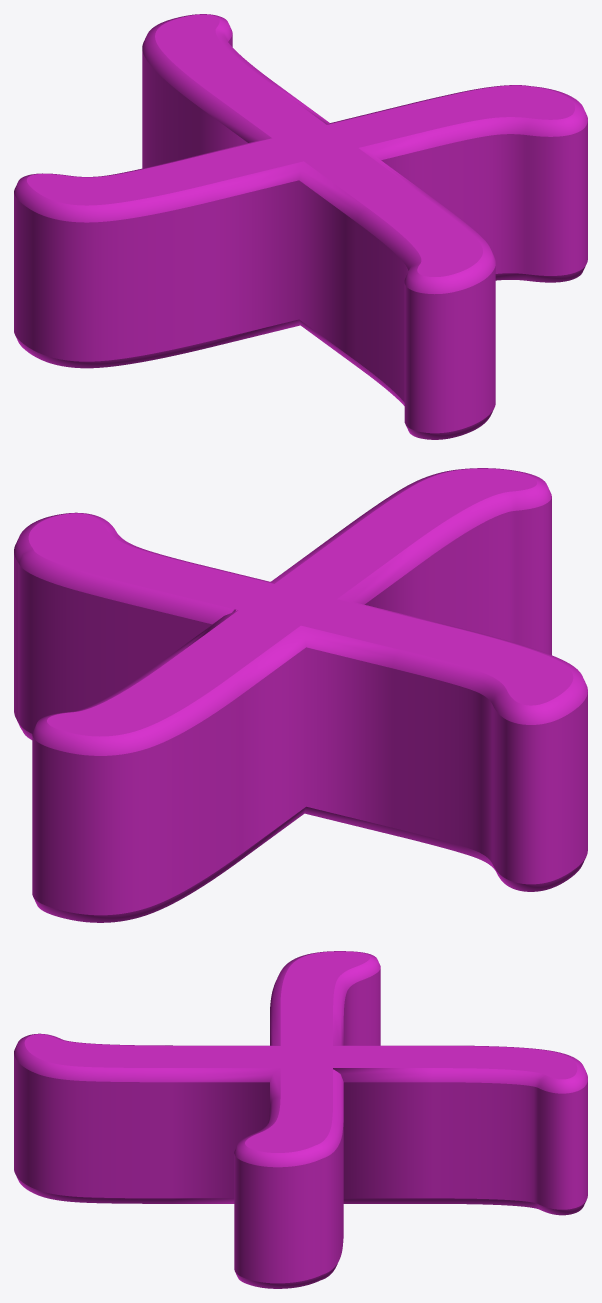
The model's file is PlusSign.fbx.
3 renders of one model, top to bottom at view 1: azimuth 30°, elevation 25°; view 2: azimuth 150°, elevation 25°; view 3: azimuth 270°, elevation 25°, orthographic. The views are drawn at different scales.
Parts seen in each view (by area): view 1: PlusSign; view 2: PlusSign; view 3: PlusSign.
Boxes of the visible parts, x1,y1,x2,y2 form: PlusSign: (14, 14, 587, 439); PlusSign: (14, 468, 587, 922); PlusSign: (14, 951, 587, 1288).
Bounding box in the file's own units: 0.4668 × 0.14 × 0.5376.
